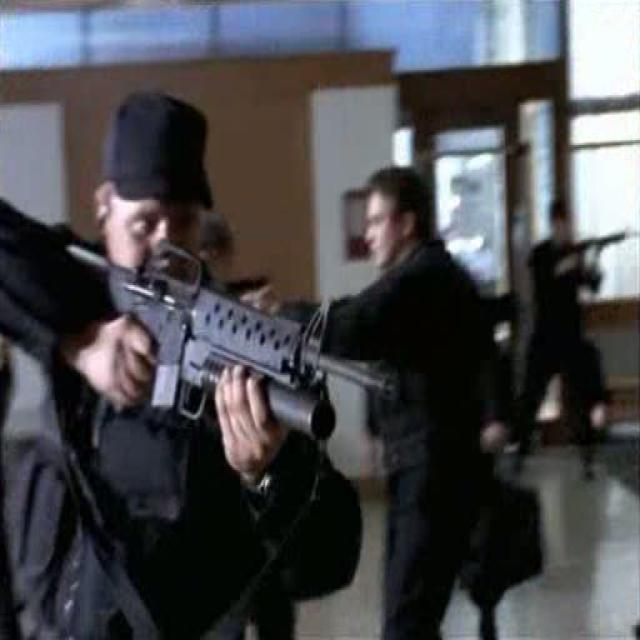rifle: (75, 239, 396, 440)
